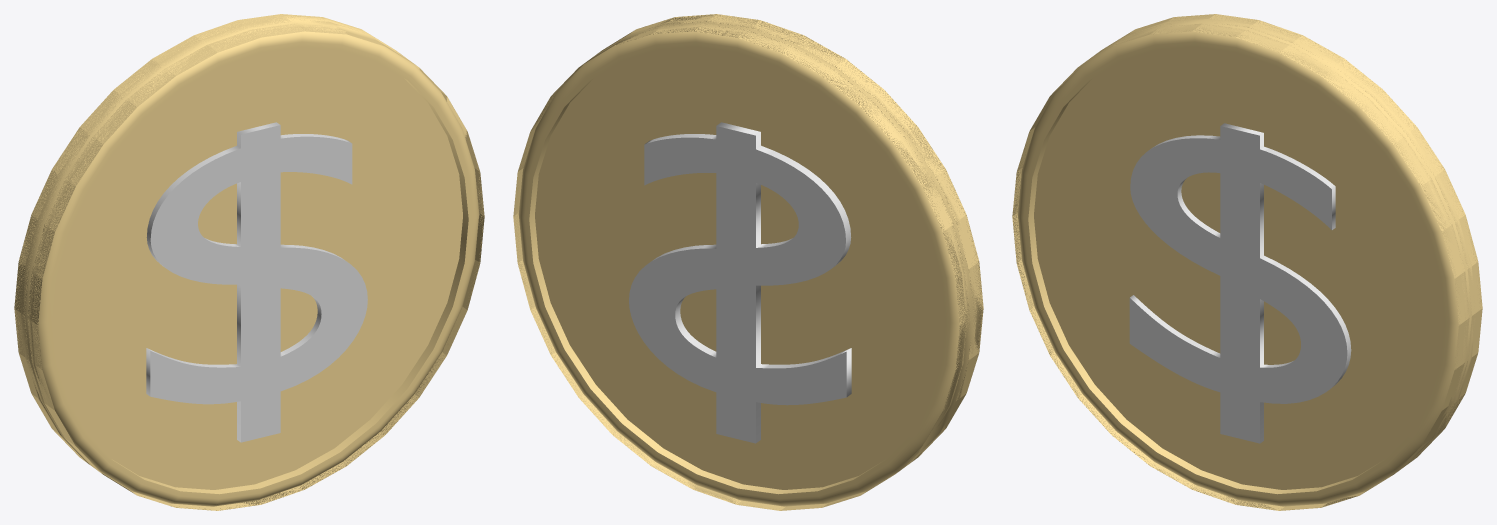
File: coin_animation.fbx
The picture shows the model from 3 angles, left to right: view 1: azimuth 30°, elevation 25°; view 2: azimuth 150°, elevation 25°; view 3: azimuth 330°, elevation 25°; orthographic projection.
Parts seen in each view (by area): view 1: Cylinder; view 2: Cylinder; view 3: Cylinder.
Part boxes in pixels (x1,y1,x2,y2): Cylinder: [14, 14, 484, 510]; Cylinder: [513, 14, 983, 510]; Cylinder: [1012, 14, 1482, 510].
Bounding box in the file's own units: 600 × 600 × 55.43.
4 materials, 2 textured.
